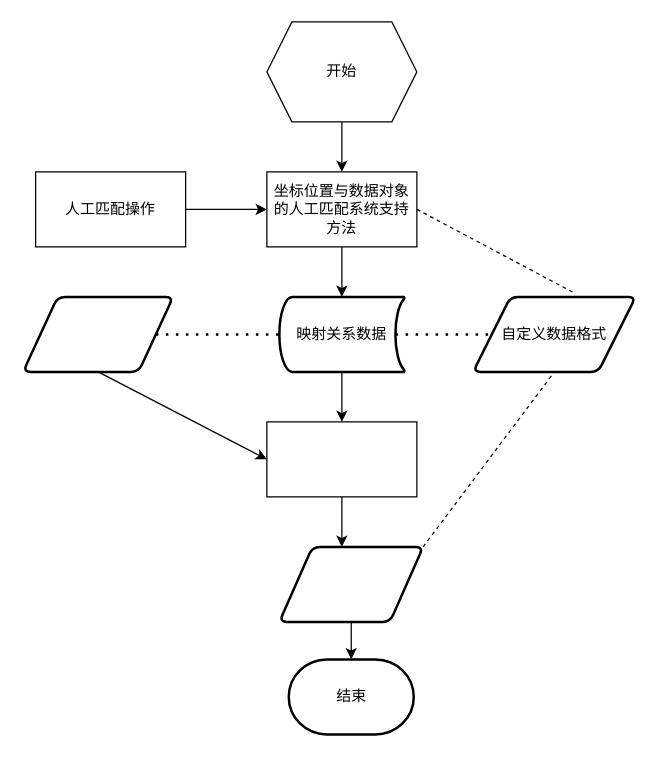
This 658x758 diagram has some shape labels left out. Each missing label, with the box of its shape:
OCR坐标数据: (21, 295, 174, 372)
对映射关系数据的解释执行及数据的自动化转换: (266, 421, 417, 497)
转换结果数据: (278, 545, 424, 622)
